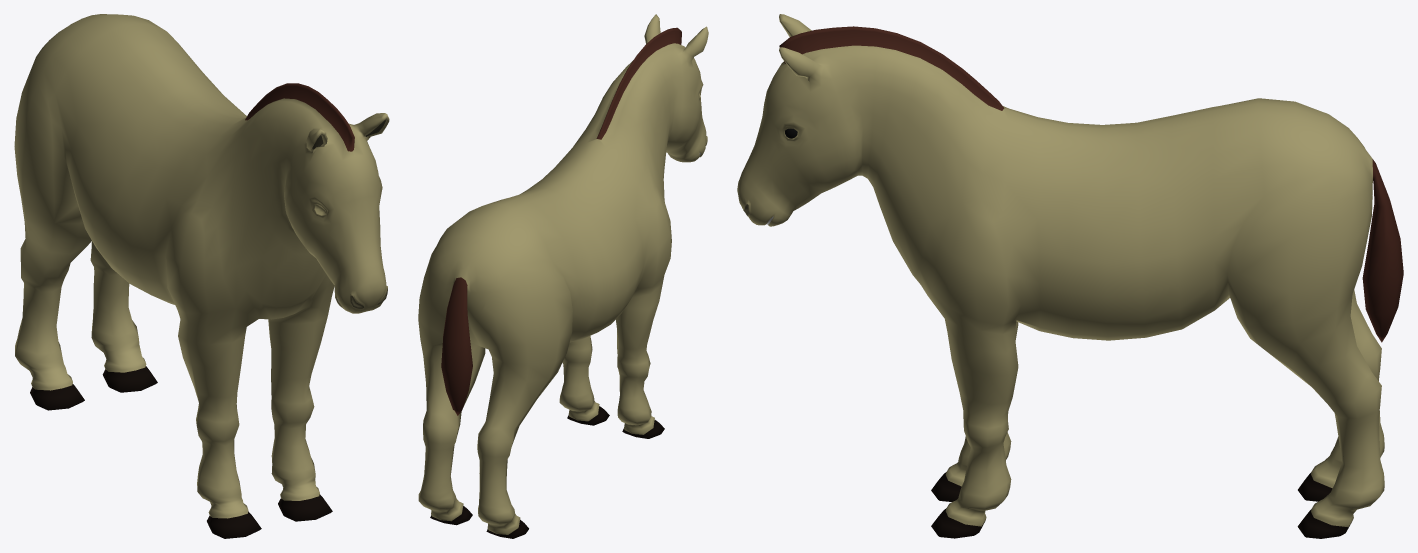
Rendered from pony.obj.
3 views of the same model, side by side, from view 1: azimuth 30°, elevation 25°; view 2: azimuth 150°, elevation 25°; view 3: azimuth 270°, elevation 25° (orthographic). The views are drawn at different scales.
Visible parts, largest first — view 1: pony; view 2: pony; view 3: pony.
Boxes of the visible parts, x1=… form: pony: x1=14, y1=14, x2=389, y2=538; pony: x1=418, y1=14, x2=708, y2=538; pony: x1=737, y1=14, x2=1403, y2=538.
Bounding box in the file's own units: 0.5083 × 1.29 × 1.61.
